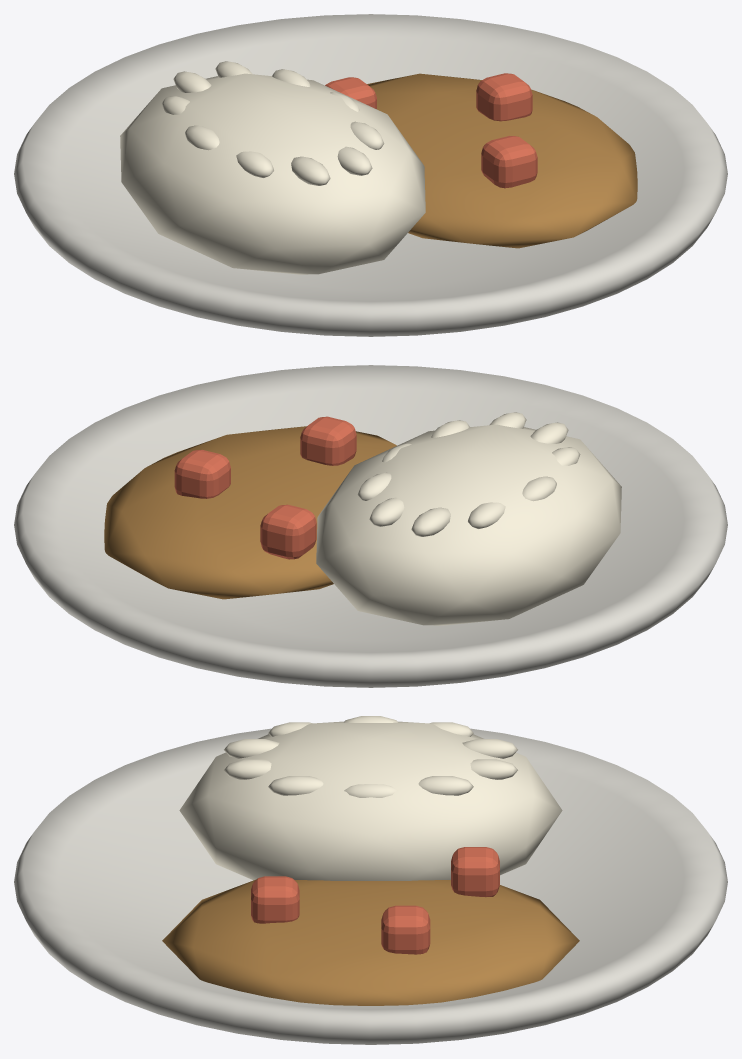
File: FoodCurryRice.fbx
3 views of the same model, one above another, from view 1: azimuth 30°, elevation 25°; view 2: azimuth 150°, elevation 25°; view 3: azimuth 270°, elevation 25° (orthographic).
Visible parts, largest first — view 1: Ceramic rolled rim plate, Rice mound, Thick curry sauce, Curry vegetable, Curry vegetable.001, Curry vegetable.002, Rice grain.007, Rice grain.008, Rice grain.006, Rice grain.005, Rice grain.003, Rice grain.009; view 2: Ceramic rolled rim plate, Rice mound, Thick curry sauce, Curry vegetable.002, Curry vegetable.001, Curry vegetable, Rice grain.003, Rice grain.002, Rice grain.004, Rice grain.005, Rice grain.007, Rice grain.001; view 3: Ceramic rolled rim plate, Rice mound, Thick curry sauce, Curry vegetable.002, Curry vegetable.001, Curry vegetable, Rice grain.001, Rice grain.009, Rice grain.002, Rice grain.008, Rice grain.003, Rice grain.007 (+1 smaller).
Part boxes in pixels (left/top/right/bottom): Ceramic rolled rim plate: left=14, top=14, right=727, bottom=336; Rice mound: left=120, top=73, right=425, bottom=274; Thick curry sauce: left=367, top=73, right=637, bottom=248; Curry vegetable: left=481, top=136, right=537, bottom=188; Curry vegetable.001: left=476, top=73, right=532, bottom=121; Curry vegetable.002: left=325, top=77, right=376, bottom=109; Rice grain.007: left=291, top=156, right=330, bottom=185; Rice grain.008: left=337, top=146, right=372, bottom=175; Rice grain.006: left=236, top=151, right=273, bottom=177; Rice grain.005: left=185, top=125, right=219, bottom=150; Rice grain.003: left=173, top=71, right=211, bottom=92; Rice grain.009: left=350, top=121, right=384, bottom=149; Ceramic rolled rim plate: left=14, top=365, right=727, bottom=687; Rice mound: left=316, top=424, right=621, bottom=625; Thick curry sauce: left=104, top=426, right=396, bottom=599; Curry vegetable.002: left=260, top=504, right=316, bottom=559; Curry vegetable.001: left=174, top=449, right=230, bottom=498; Curry vegetable: left=300, top=416, right=356, bottom=465; Rice grain.003: left=411, top=507, right=450, bottom=536; Rice grain.002: left=369, top=497, right=404, bottom=526; Rice grain.004: left=468, top=502, right=505, bottom=528; Rice grain.005: left=522, top=476, right=556, bottom=501; Rice grain.007: left=530, top=422, right=568, bottom=443; Rice grain.001: left=357, top=472, right=391, bottom=500; Ceramic rolled rim plate: left=14, top=728, right=727, bottom=1044; Rice mound: left=179, top=721, right=562, bottom=880; Thick curry sauce: left=162, top=879, right=579, bottom=1005; Curry vegetable.002: left=451, top=847, right=499, bottom=897; Curry vegetable.001: left=381, top=905, right=430, bottom=954; Curry vegetable: left=251, top=876, right=299, bottom=923; Rice grain.001: left=418, top=776, right=473, bottom=795; Rice grain.009: left=268, top=776, right=323, bottom=795; Rice grain.002: left=470, top=759, right=517, bottom=779; Rice grain.008: left=224, top=759, right=271, bottom=779; Rice grain.003: left=462, top=739, right=517, bottom=758; Rice grain.007: left=224, top=739, right=279, bottom=758.
Size of the model in its own units: 41 by 11 by 41.
